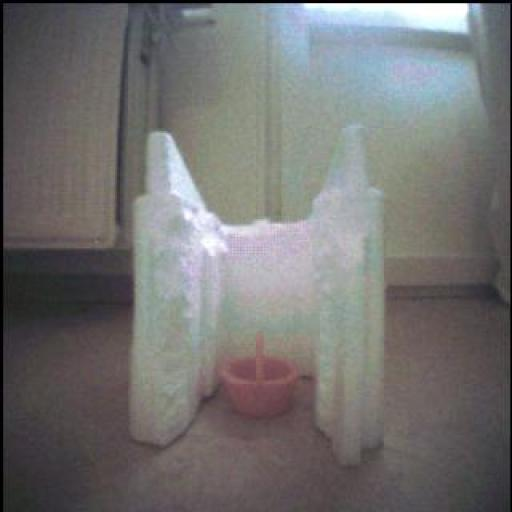Basket: (218, 330, 301, 420)
